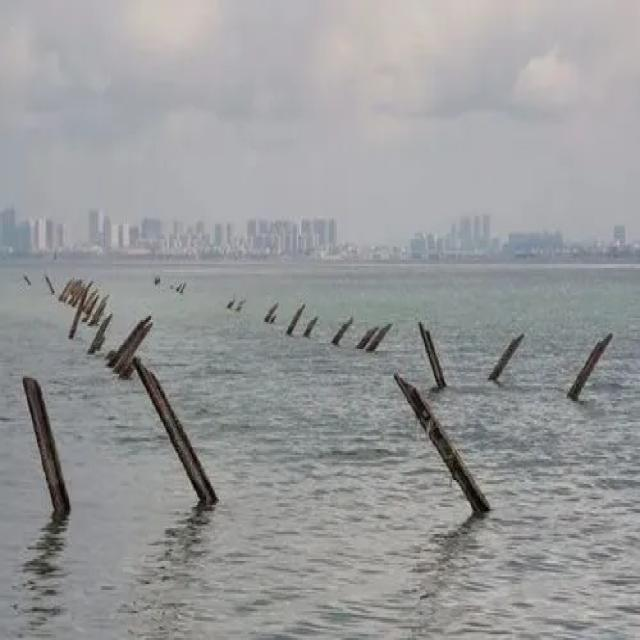buoy: (131, 350, 226, 520), (384, 373, 489, 526), (12, 364, 97, 528), (550, 320, 614, 390), (406, 308, 457, 394), (476, 321, 526, 392), (108, 318, 157, 382), (326, 313, 350, 351), (264, 292, 282, 330), (289, 303, 305, 335), (304, 314, 318, 340)
